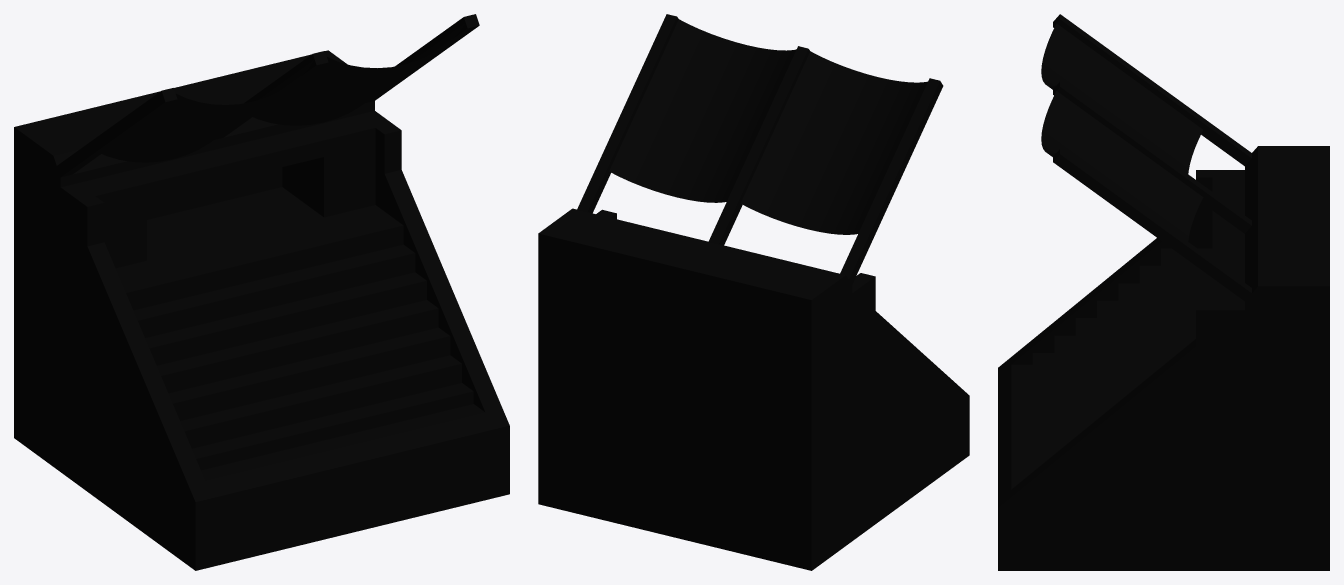
Rendered from grandStandAwning.glb.
The picture shows the model from 3 angles, left to right: view 1: azimuth 30°, elevation 25°; view 2: azimuth 150°, elevation 25°; view 3: azimuth 270°, elevation 25°; orthographic projection. The views are drawn at different scales.
Parts seen in each view (by area): view 1: Mesh grandStandAwning; view 2: Mesh grandStandAwning; view 3: Mesh grandStandAwning.
Part boxes in pixels (<box>): Mesh grandStandAwning: <box>14,14,509,570</box>; Mesh grandStandAwning: <box>538,14,969,570</box>; Mesh grandStandAwning: <box>998,14,1329,570</box>.
Size of the model in its own units: 1 by 1.39 by 1.
Materials: 1 (1 with a texture image).
